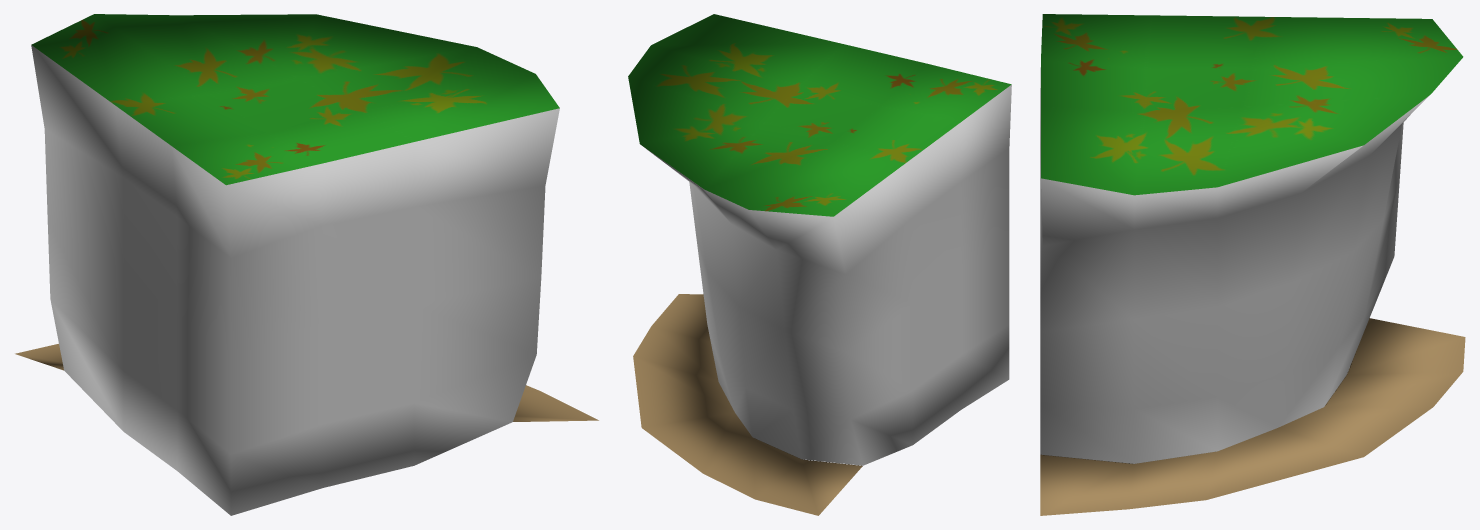
File: terrain_round.fbx
3 renders of one model, left to right at view 1: azimuth 30°, elevation 25°; view 2: azimuth 150°, elevation 25°; view 3: azimuth 270°, elevation 25°, orthographic. The views are drawn at different scales.
Visible parts, largest first — view 1: Cube; view 2: Cube; view 3: Cube.
Part boxes in pixels (x1,y1,x2,y2): Cube: (15, 14, 598, 515); Cube: (628, 14, 1011, 515); Cube: (1040, 14, 1465, 515).
Size of the model in its own units: 707 by 600 by 706.
